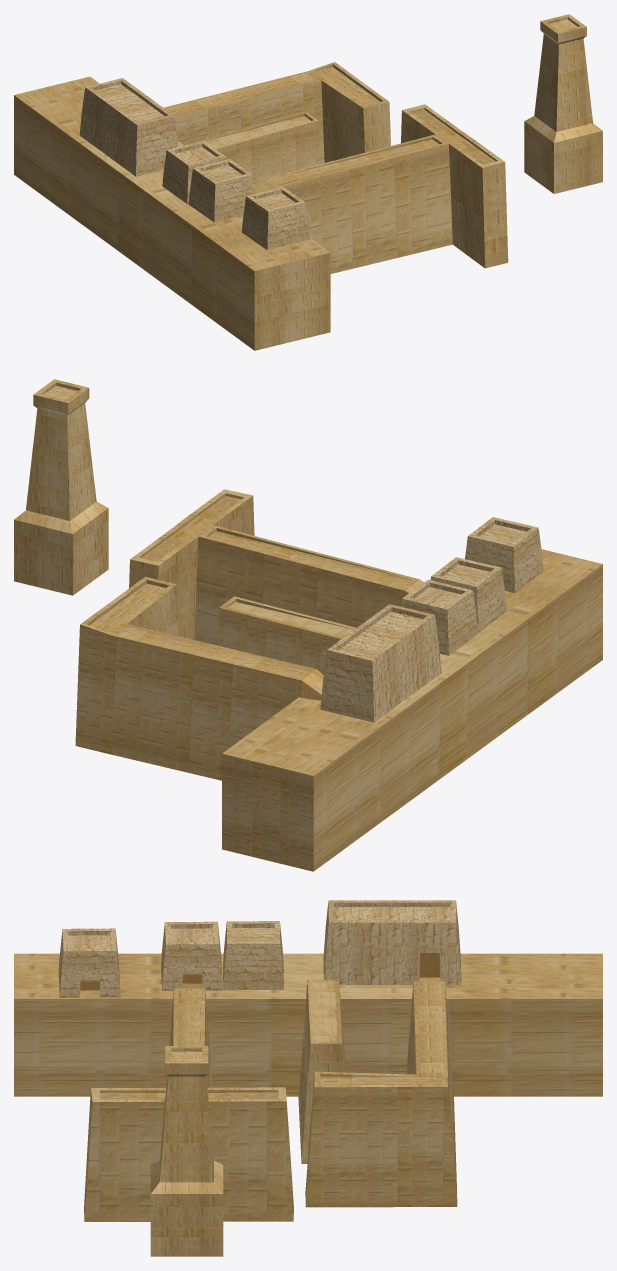
Rendered from Egyptian Port 3.obj.
3 renders of one model, top to bottom at view 1: azimuth 30°, elevation 25°; view 2: azimuth 150°, elevation 25°; view 3: azimuth 270°, elevation 25°, orthographic. The views are drawn at different scales.
Visible parts, largest first — view 1: Cube, Cube.001_Cube.049, Cube.000_Cube.047, Cube.002_Cube.001, Cube.045_Cube.053, Cube.024_Cube.016, Cube.004_Cube.002, Cube.025_Cube.051, Cube.003_Cube.052; view 2: Cube, Cube.000_Cube.047, Cube.001_Cube.049, Cube.002_Cube.001, Cube.045_Cube.053, Cube.024_Cube.016, Cube.004_Cube.002, Cube.003_Cube.052, Cube.025_Cube.051; view 3: Cube, Cube.000_Cube.047, Cube.001_Cube.049, Cube.002_Cube.001, Cube.045_Cube.053, Cube.024_Cube.016, Cube.003_Cube.052, Cube.004_Cube.002, Cube.025_Cube.051.
Boxes of the visible parts, box(x1,y1,x2,y2) form: Cube: box(14, 76, 330, 350); Cube.001_Cube.049: box(254, 104, 508, 273); Cube.000_Cube.047: box(163, 62, 390, 163); Cube.002_Cube.001: box(524, 14, 602, 193); Cube.045_Cube.053: box(79, 78, 178, 176); Cube.024_Cube.016: box(193, 111, 319, 184); Cube.004_Cube.002: box(241, 187, 309, 250); Cube.025_Cube.051: box(188, 159, 254, 222); Cube.003_Cube.052: box(162, 141, 226, 204); Cube: box(222, 549, 602, 871); Cube.000_Cube.047: box(75, 576, 323, 780); Cube.001_Cube.049: box(129, 489, 423, 645); Cube.002_Cube.001: box(14, 379, 108, 595); Cube.045_Cube.053: box(320, 604, 441, 722); Cube.024_Cube.016: box(217, 596, 356, 674); Cube.004_Cube.002: box(465, 517, 543, 592); Cube.003_Cube.052: box(401, 579, 478, 655); Cube.025_Cube.051: box(430, 557, 506, 632); Cube: box(14, 953, 602, 1096); Cube.000_Cube.047: box(305, 981, 457, 1207); Cube.001_Cube.049: box(84, 983, 293, 1221); Cube.002_Cube.001: box(150, 1046, 223, 1256); Cube.045_Cube.053: box(323, 900, 461, 984); Cube.024_Cube.016: box(298, 979, 345, 1163); Cube.003_Cube.052: box(223, 921, 283, 990); Cube.004_Cube.002: box(58, 928, 120, 997); Cube.025_Cube.051: box(161, 921, 222, 990).
Size of the model in its own units: 0.6953 by 0.3032 by 0.7171.
Materials: 3 (3 with a texture image).
